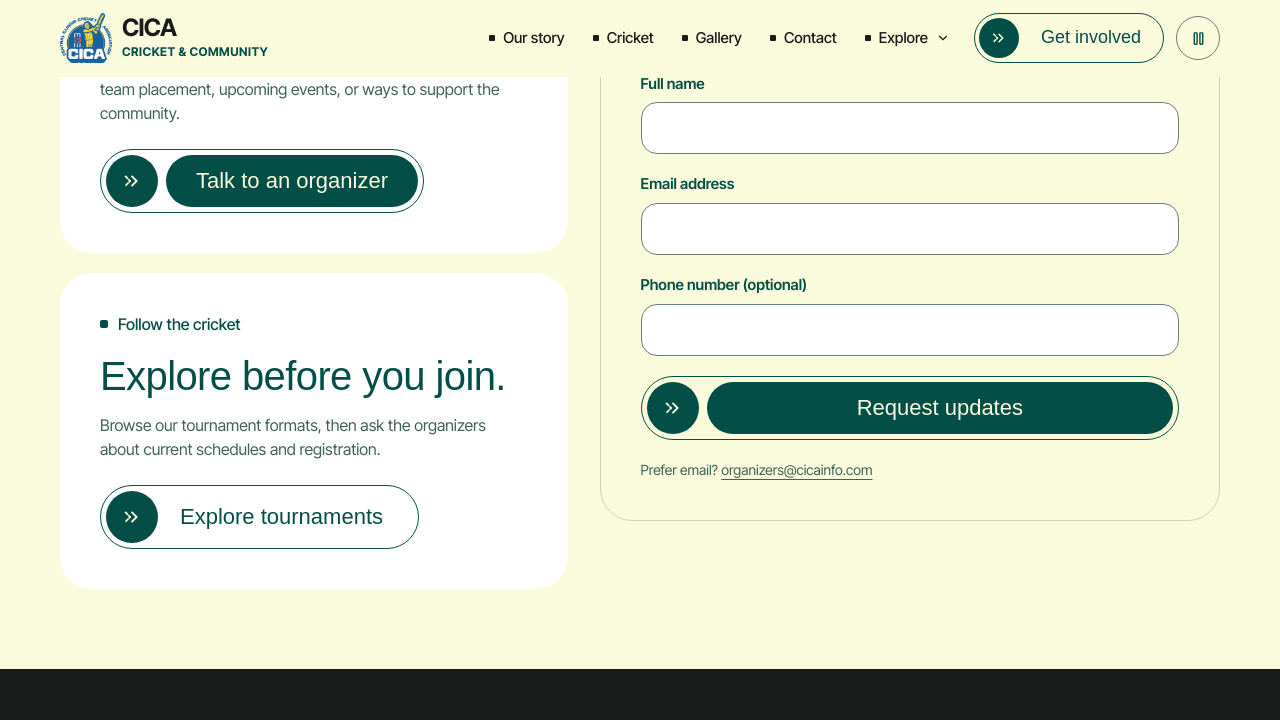
Test case: Community updates form › should show validation errors for empty fields
(page scrolled)
Step 1. Click the button "Request updates" → (910, 408), box [641,376,1179,440]
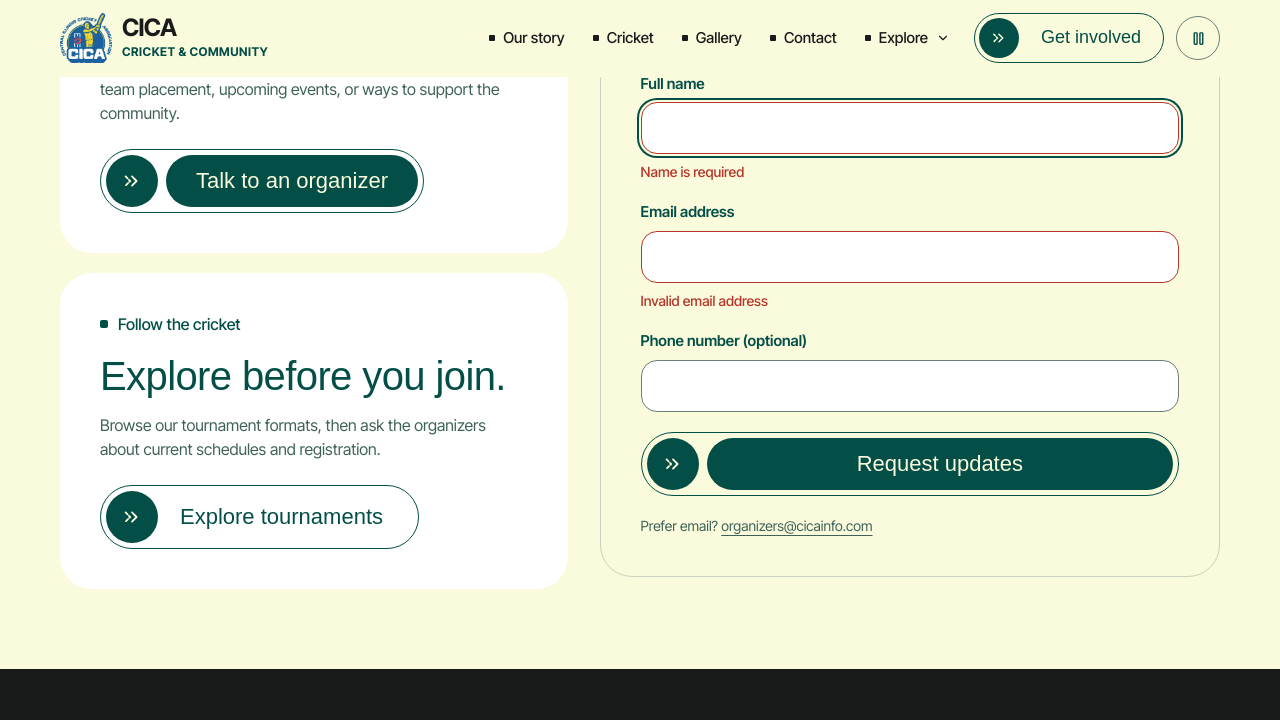
Check: the text "Name is required" is shown, box [641,164,744,180]
Check: the text "Invalid email address" is shown, box [641,292,768,309]
